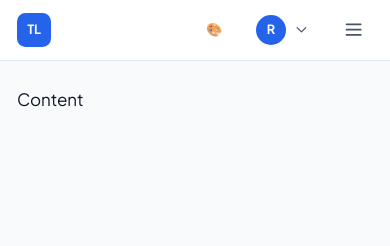
Test: desktop and mobile navigation omit Candidates and retain the other main links
Click the button named "Toggle navigation" at x=354, y=30, box top-left (335, 11), bottom-right (373, 49)
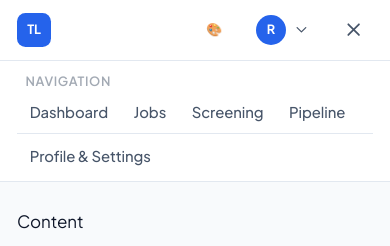
Result: the button named "Toggle navigation" is expanded at top-left (335, 11), bottom-right (373, 49)
Click the link "Pipeline" at x=317, y=113, box top-left (289, 104), bottom-right (345, 122)
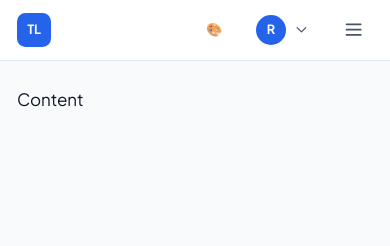
Result: the button named "Toggle navigation" is collapsed at top-left (335, 11), bottom-right (373, 49)
